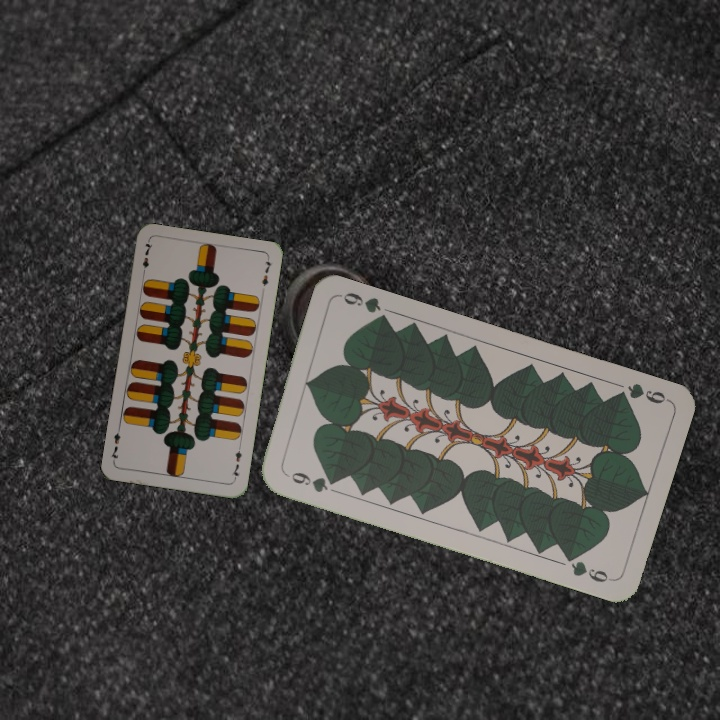E7: (138, 238, 155, 278), (229, 442, 244, 483)
G9: (610, 379, 671, 407), (280, 468, 340, 495)
